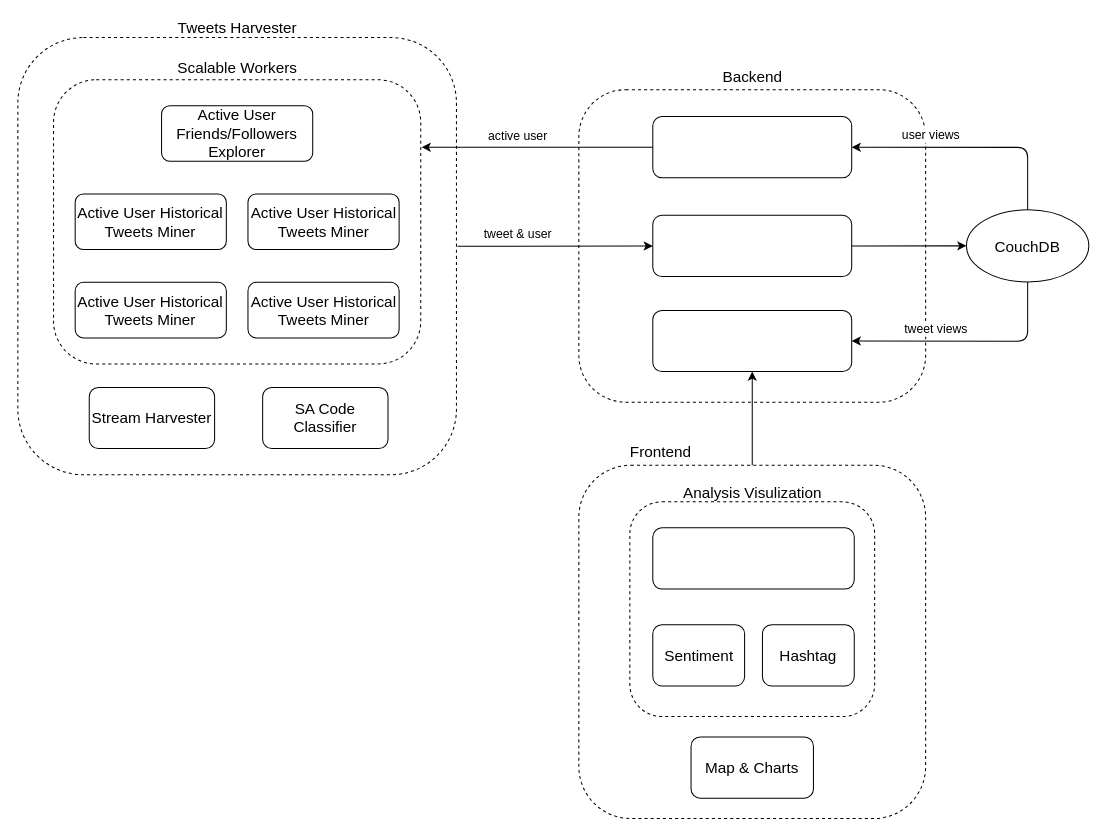
Some shapes in this 1107 by 837 pixel diagram are drawn without their labels. Here are the shapes that lost their labels. From the top down, the centre of each, then its label:
At [752,147]: "Task Queue (For explore active users)".
At [752,245]: "Persistance API".
At [752,340]: "Data Analysis API".
At [753,558]: "Correlation Population & Income & Age".
